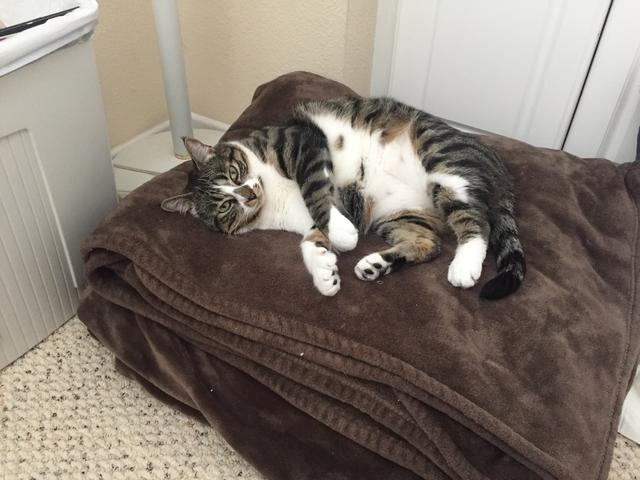playdoh: (154, 95, 527, 308)
